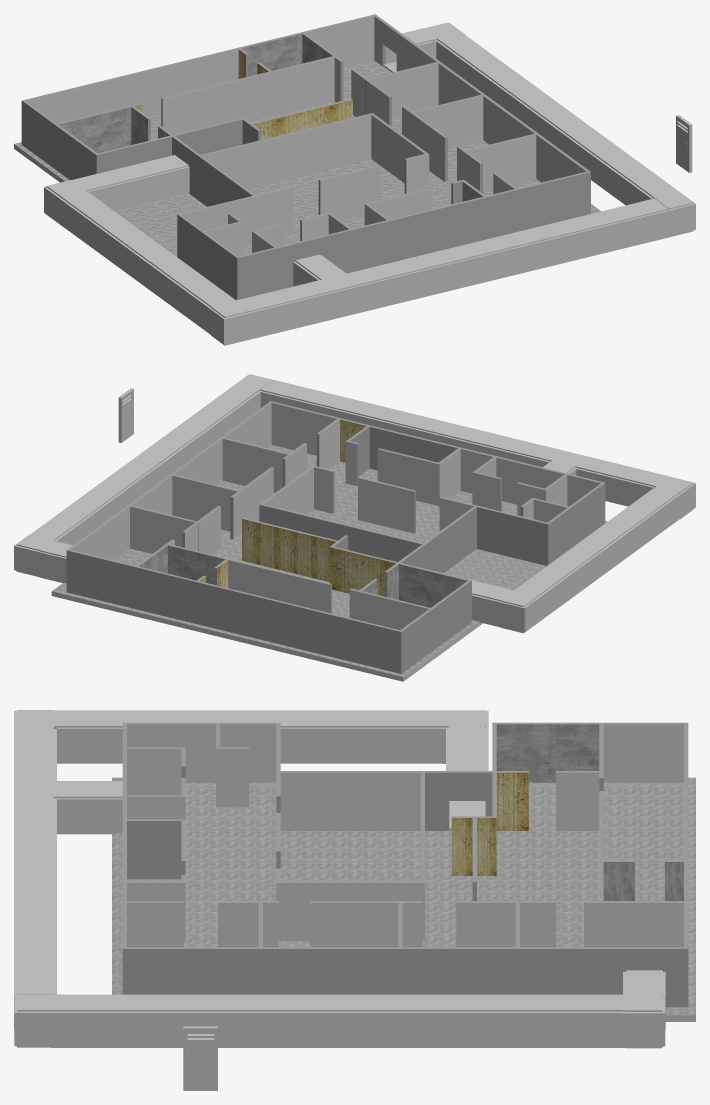
File: AsylumMapDraft3.fbx
3 renders of one model, top to bottom at view 1: azimuth 30°, elevation 25°; view 2: azimuth 150°, elevation 25°; view 3: azimuth 270°, elevation 25°, orthographic. The views are drawn at different scales.
Visible parts, largest first — view 1: Object005, pasted__pasted__pasted__pCube2 (×5), pCube3, pasted__pasted__pCube2 (×3), pasted__pasted__pasted__pasted__pasted__pCube2 (×3), pasted__pCube2 (×2), pasted__pasted__pasted__group9_pasted__pasted__pasted__paste, pCube2, pasted__pasted__pasted__pasted__group9_pasted__pasted__paste, pCube10; view 2: Object005, pasted__pasted__pasted__pCube2 (×6), pCube3, pasted__pasted__pCube2 (×2), pasted__pasted__pasted__pasted__pasted__pCube2 (×3), pasted__pCube2, pasted__pasted__pasted__pasted__pasted__group9_pasted__paste, pasted__pasted__pasted__group9_pasted__pasted__pasted__paste, pCube10, pasted__pasted__pasted__pasted__pCube2, pCube2; view 3: Object005, pCube3, pasted__pasted__pasted__pCube2 (×8), pasted__pasted__pasted__pasted__pCube2 (×2), pasted__pasted__pCube2 (×4), pasted__pCube2 (×2), pasted__pasted__pasted__pasted__group9_pasted__pasted__paste, pasted__pasted__pasted__pasted__pasted__group9_pasted__paste, pCube10, pCube2, pasted__pasted__pasted__group9_pasted__pasted__pasted__paste.
Boxes of the visible parts, <box> form: Object005: <box>21,14,590,300</box>; pasted__pasted__pasted__pCube2 (×5): <box>59,32,680,337</box>; pCube3: <box>14,60,600,256</box>; pasted__pasted__pCube2 (×3): <box>240,198,668,338</box>; pasted__pasted__pasted__pasted__pasted__pCube2 (×3): <box>118,40,653,331</box>; pasted__pCube2 (×2): <box>61,166,189,240</box>; pasted__pasted__pasted__group9_pasted__pasted__pasted__paste: <box>207,299,254,345</box>; pCube2: <box>71,155,188,191</box>; pasted__pasted__pasted__pasted__group9_pasted__pasted__paste: <box>652,192,695,237</box>; pCube10: <box>676,115,692,172</box>; Object005: <box>66,401,605,673</box>; pasted__pasted__pasted__pCube2 (×6): <box>31,383,679,632</box>; pCube3: <box>51,445,607,681</box>; pasted__pasted__pCube2 (×2): <box>260,380,667,626</box>; pasted__pasted__pasted__pasted__pasted__pCube2 (×3): <box>55,391,680,580</box>; pasted__pCube2: <box>517,549,593,596</box>; pasted__pasted__pasted__pasted__pasted__group9_pasted__paste: <box>14,534,56,577</box>; pasted__pasted__pasted__group9_pasted__pasted__pasted__paste: <box>652,476,695,519</box>; pCube10: <box>118,388,133,442</box>; pasted__pasted__pasted__pasted__pCube2: <box>38,552,66,582</box>; pCube2: <box>430,570,516,601</box>; Object005: <box>122,722,688,1007</box>; pCube3: <box>112,777,695,1021</box>; pasted__pasted__pasted__pCube2 (×8): <box>14,710,662,1028</box>; pasted__pasted__pasted__pasted__pCube2 (×2): <box>50,1011,625,1047</box>; pasted__pasted__pCube2 (×4): <box>17,710,485,994</box>; pasted__pCube2 (×2): <box>292,710,485,830</box>; pasted__pasted__pasted__pasted__group9_pasted__pasted__paste: <box>14,994,60,1047</box>; pasted__pasted__pasted__pasted__pasted__group9_pasted__paste: <box>621,992,665,1048</box>; pCube10: <box>183,1026,217,1090</box>; pCube2: <box>448,723,485,770</box>; pasted__pasted__pasted__group9_pasted__pasted__pasted__paste: <box>14,710,53,729</box>.
Bounding box in the file's own units: 32.94 × 2.92 × 27.79.
